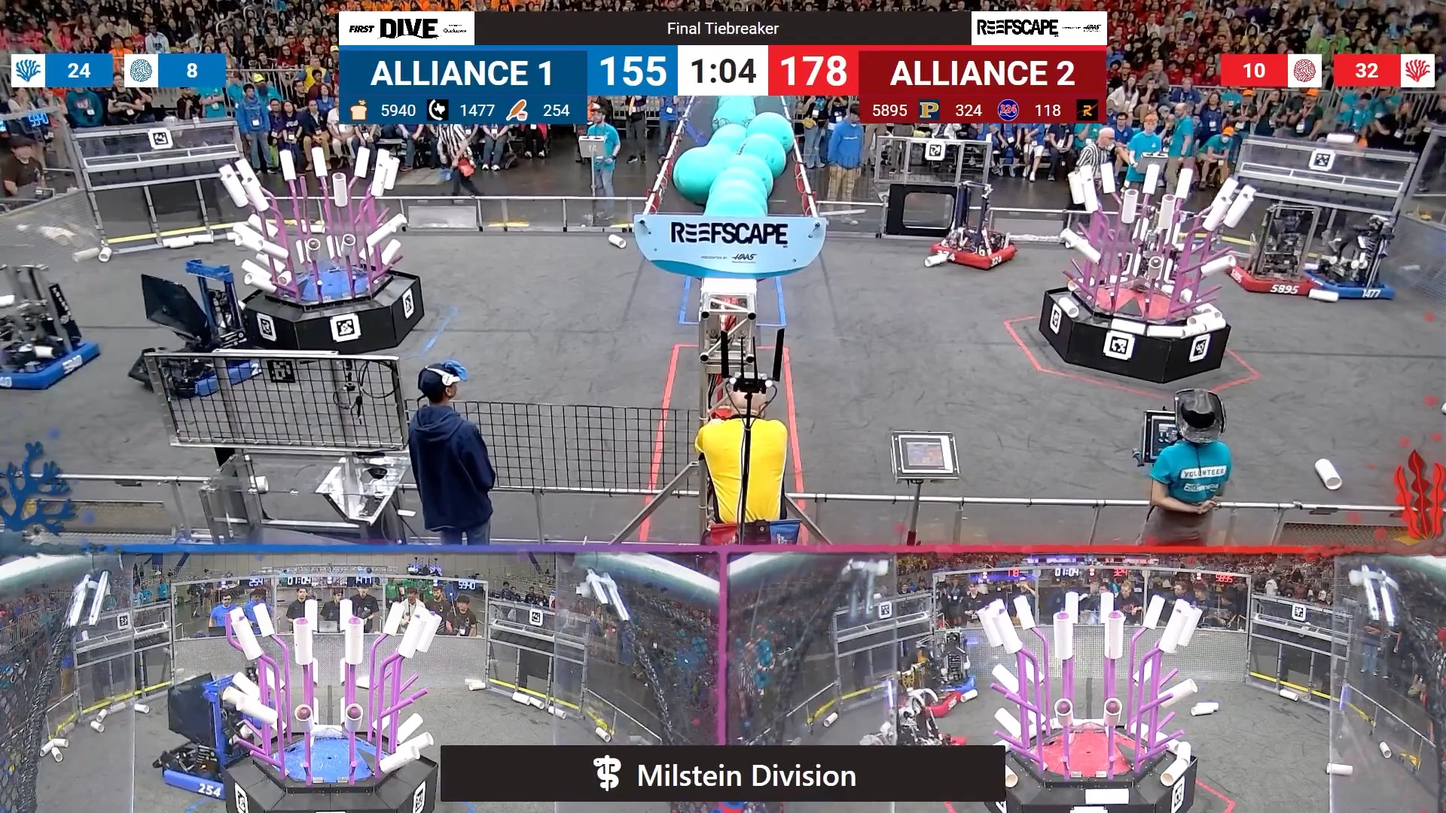bumpers: (136, 344, 266, 400), (0, 334, 113, 397), (1290, 262, 1399, 307), (1222, 257, 1327, 300), (155, 751, 244, 800), (926, 235, 1022, 274), (894, 670, 983, 699), (889, 689, 967, 714)
